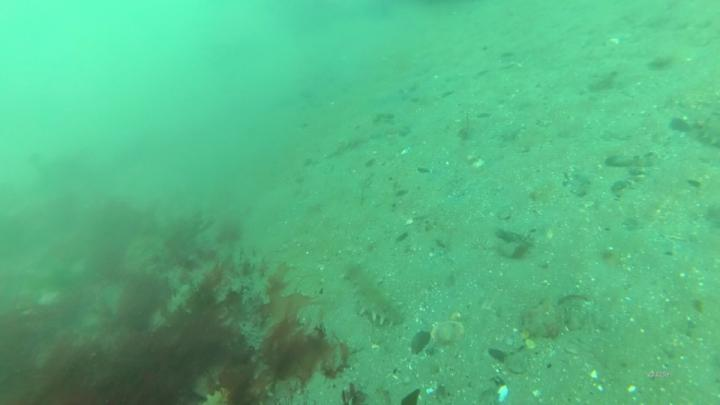holothurian: (340, 263, 407, 330)
waterweeds: (14, 269, 349, 405)
